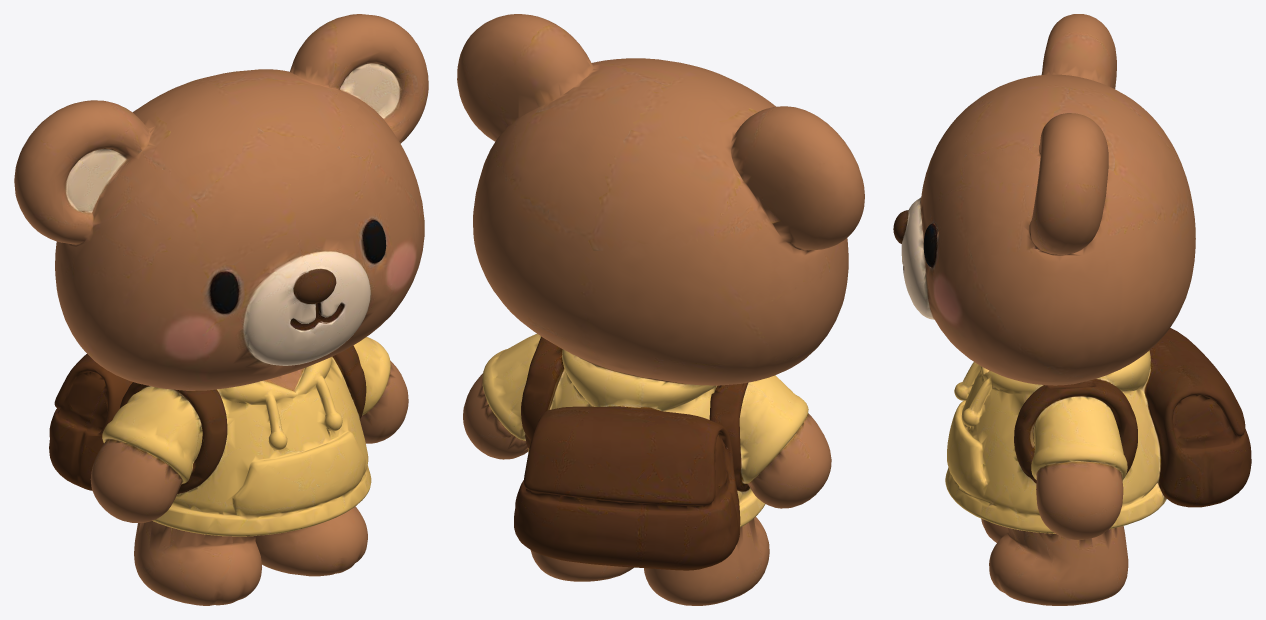
The model's file is bear.glb.
3 views of the same model, side by side, from view 1: azimuth 30°, elevation 25°; view 2: azimuth 150°, elevation 25°; view 3: azimuth 270°, elevation 25° (orthographic). The views are drawn at different scales.
Size of the model in its own units: 1.52 by 1.9 by 1.24.
Materials: 1 (1 with a texture image).
